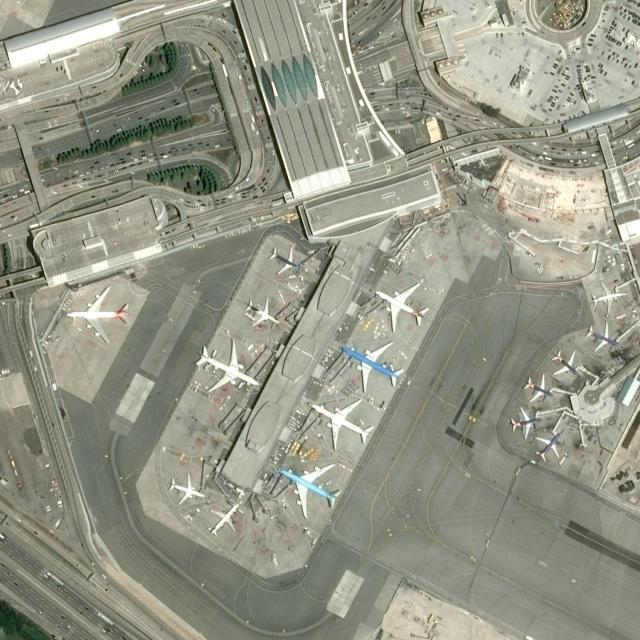Aircraft: (337, 339, 405, 395), (66, 286, 131, 341), (194, 339, 258, 393), (279, 463, 345, 515), (306, 398, 374, 448), (375, 285, 435, 332), (206, 503, 241, 537), (244, 299, 281, 327), (167, 476, 200, 503), (268, 246, 298, 274)
